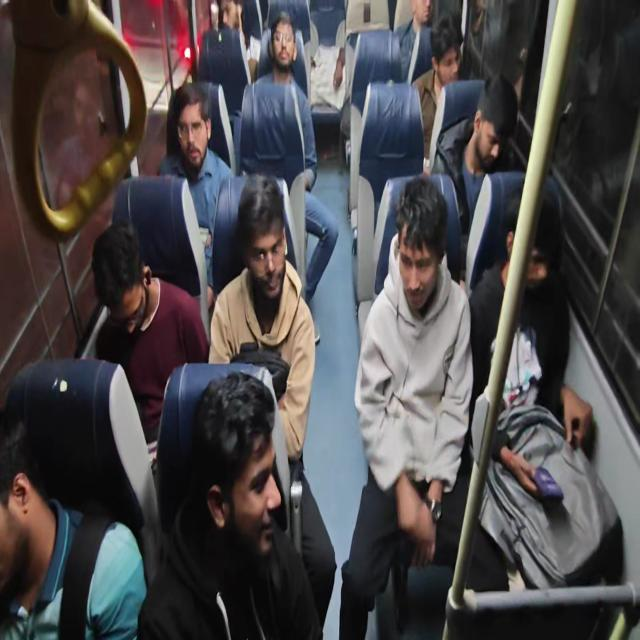person: (168, 368, 292, 565), (364, 203, 461, 326), (0, 430, 53, 637), (300, 21, 356, 152), (222, 189, 279, 305), (94, 238, 148, 339), (476, 85, 520, 180), (513, 225, 558, 310), (429, 18, 477, 88), (174, 97, 217, 164), (268, 24, 309, 94), (215, 0, 249, 44), (408, 0, 439, 41)
